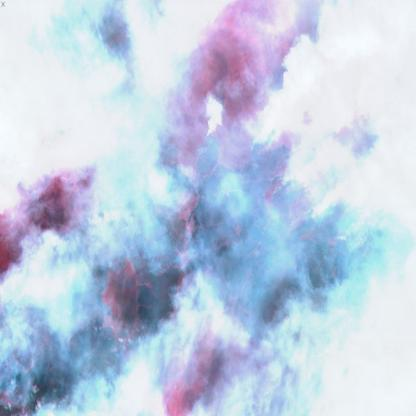fire: (0, 114, 416, 416)
